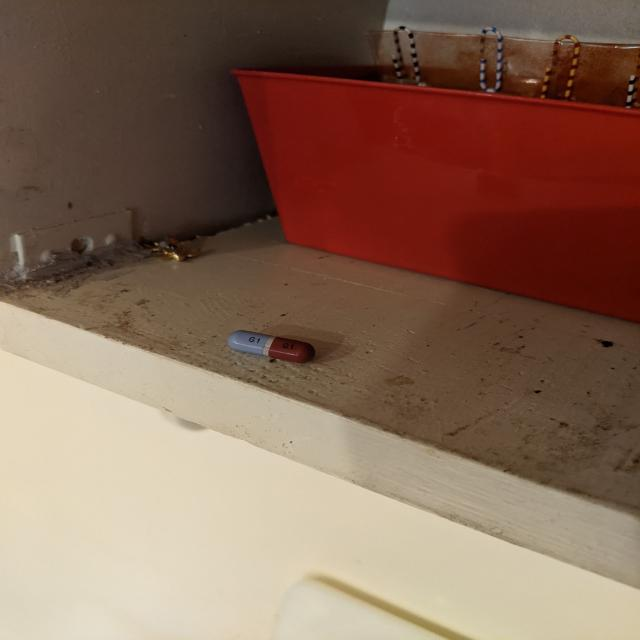non-organic waste: (226, 329, 318, 364)
